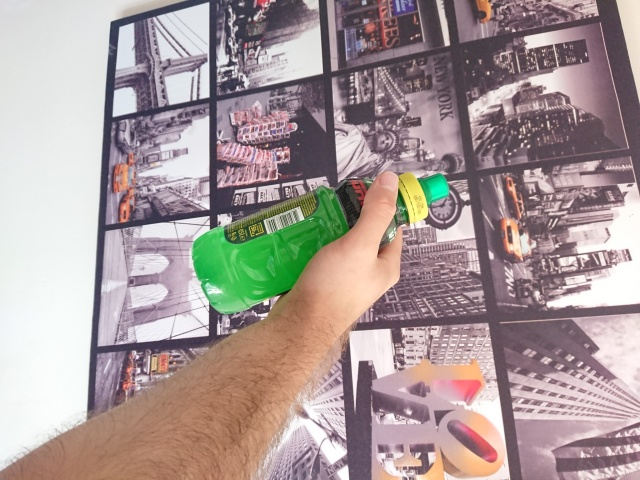Vindi Iso Sport Lemon-Grapefruit 500mL: (188, 168, 453, 318)
